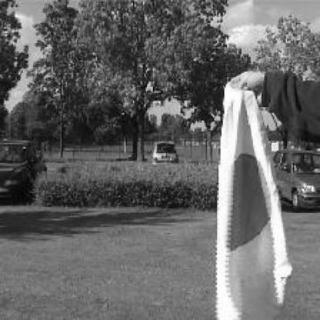other: (212, 143, 286, 261)
